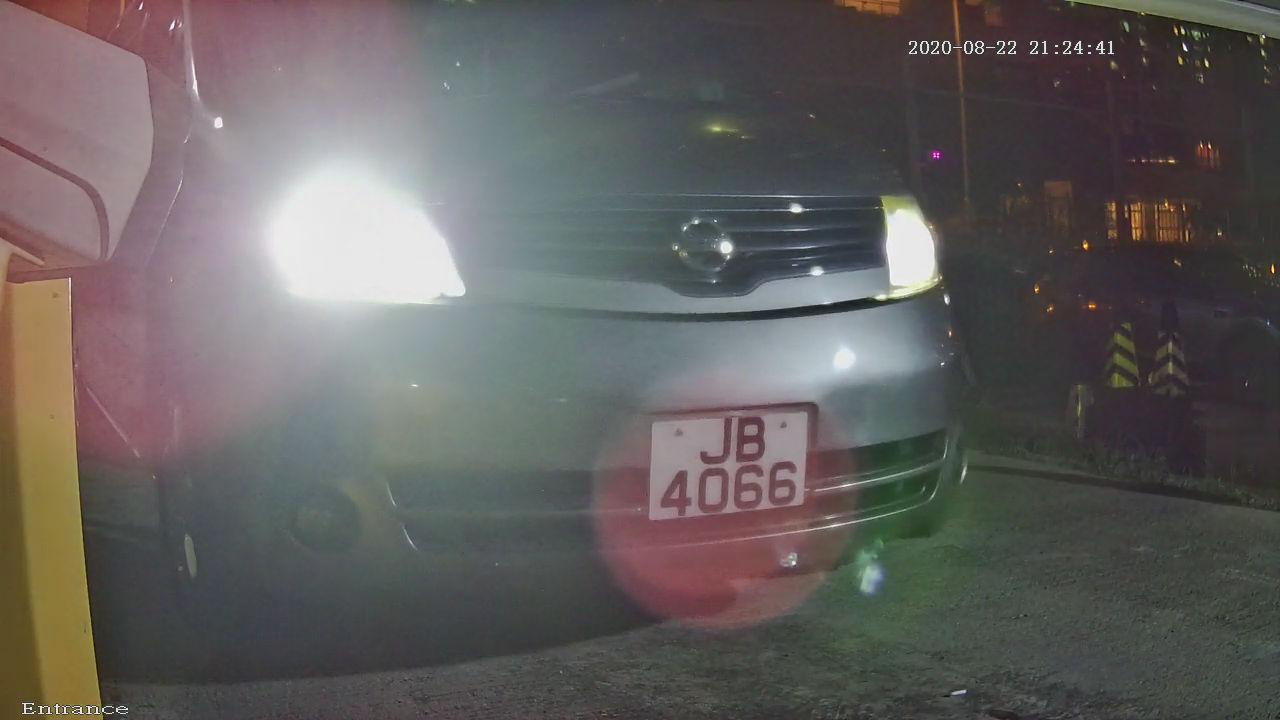Car: (58, 10, 1081, 688)
License Plate: (635, 393, 841, 541)
